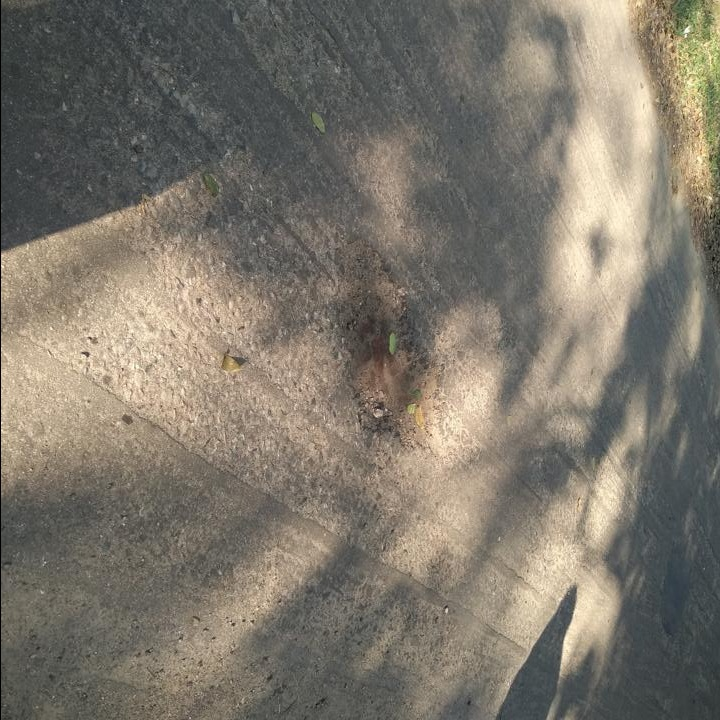pothole: (327, 228, 447, 453)
